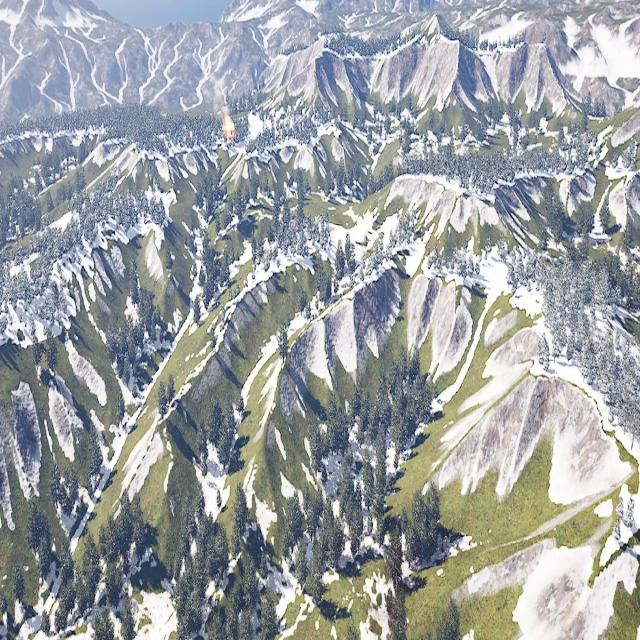fire: (222, 116, 234, 134)
smoke: (209, 80, 226, 119)
